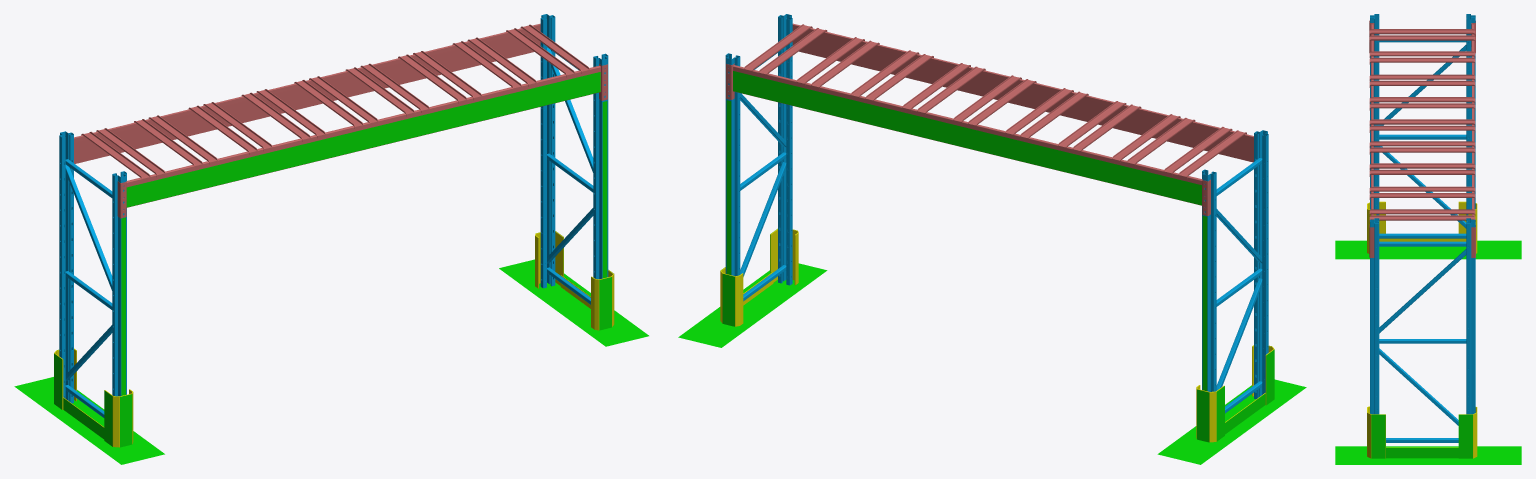
Rendered from shelf_forklift.fbx.
3 views of the same model, side by side, from view 1: azimuth 30°, elevation 25°; view 2: azimuth 150°, elevation 25°; view 3: azimuth 270°, elevation 25° (orthographic). The views are drawn at different scales.
Parts seen in each view (by area): view 1: shelf_forkLift_01, decals, shelf_forkLift_02, shelf_forkLift_03, decal_shdw_LEFT, decal_shdw_RIGHT, shelf_forkLift_04; view 2: shelf_forkLift_01, decals, shelf_forkLift_02, shelf_forkLift_03, decal_shdw_LEFT, decal_shdw_RIGHT, shelf_forkLift_04; view 3: shelf_forkLift_02, shelf_forkLift_01, decal_shdw_RIGHT, decal_shdw_LEFT, decals, shelf_forkLift_04, shelf_forkLift_03.
Boxes of the visible parts, bbox=[...] form: shelf_forkLift_01: bbox=[59, 14, 608, 417]; decals: bbox=[54, 72, 613, 447]; shelf_forkLift_02: bbox=[81, 24, 589, 181]; shelf_forkLift_03: bbox=[74, 23, 607, 218]; decal_shdw_LEFT: bbox=[499, 259, 648, 346]; decal_shdw_RIGHT: bbox=[14, 377, 164, 464]; shelf_forkLift_04: bbox=[54, 231, 614, 447]; shelf_forkLift_01: bbox=[725, 14, 1268, 413]; decals: bbox=[722, 71, 1274, 442]; shelf_forkLift_02: bbox=[744, 24, 1246, 179]; shelf_forkLift_03: bbox=[726, 23, 1253, 215]; decal_shdw_LEFT: bbox=[678, 263, 827, 347]; decal_shdw_RIGHT: bbox=[1157, 379, 1306, 464]; shelf_forkLift_04: bbox=[720, 229, 1274, 442]; shelf_forkLift_02: bbox=[1369, 29, 1475, 222]; shelf_forkLift_01: bbox=[1370, 14, 1475, 442]; decal_shdw_RIGHT: bbox=[1335, 240, 1521, 259]; decal_shdw_LEFT: bbox=[1335, 446, 1521, 464]; decals: bbox=[1371, 414, 1472, 458]; shelf_forkLift_04: bbox=[1367, 201, 1477, 458]; shelf_forkLift_03: bbox=[1369, 20, 1475, 257].
Bounding box in the file's own units: 1107 × 537 × 389.
